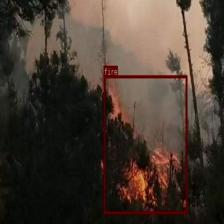fire: (103, 76, 187, 214)
